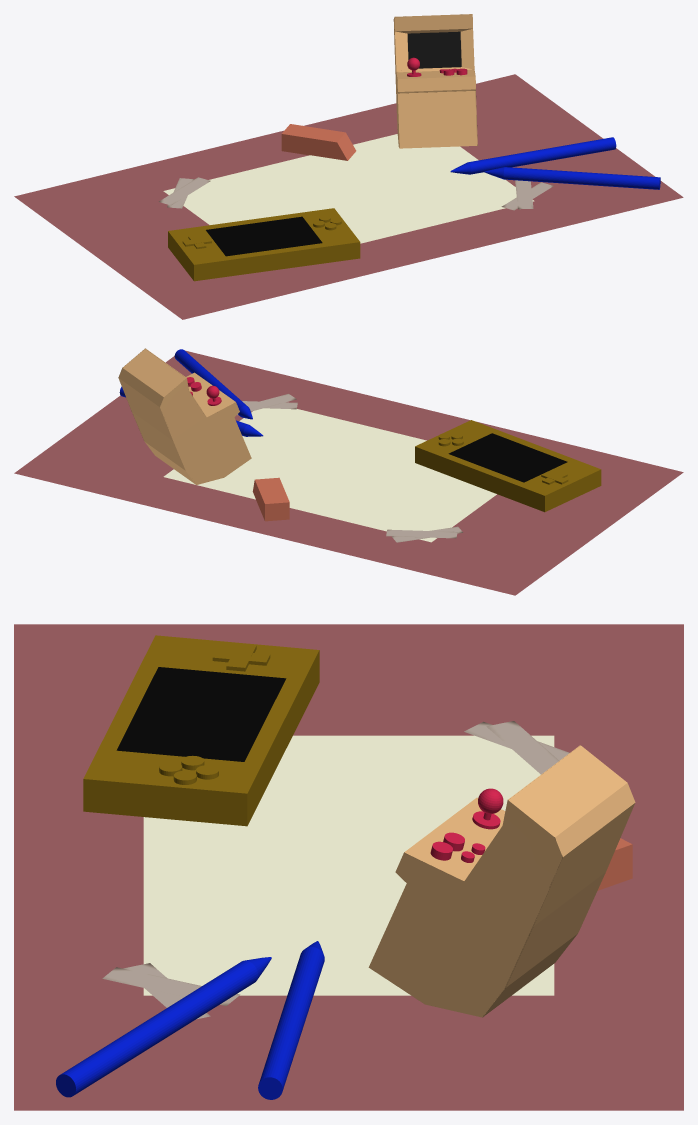
3 views of the same model, one above another, from view 1: azimuth 30°, elevation 25°; view 2: azimuth 150°, elevation 25°; view 3: azimuth 270°, elevation 25° (orthographic). The views are drawn at different scales.
Parts seen in each view (by area): view 1: Table, Paper, MiniArcadeMachine, HandheldGameConsole, Pencil_2.001, Pencil_2, Eraser, Scotch_2.001, Scotch_2.003; view 2: Table, Paper, MiniArcadeMachine, HandheldGameConsole, Eraser, Pencil_2.001, Scotch_2.001; view 3: Table, Paper, MiniArcadeMachine, HandheldGameConsole, Pencil_2.001, Pencil_2, Scotch_2.001, Scotch_2.003, Eraser.
Part boxes in pixels (x1,y1,x2,y2): Table: [14, 74, 683, 319]; Paper: [163, 134, 534, 243]; MiniArcadeMachine: [393, 14, 477, 148]; HandheldGameConsole: [168, 208, 360, 281]; Pencil_2.001: [484, 167, 660, 189]; Pencil_2: [450, 137, 616, 174]; Eraser: [281, 124, 356, 160]; Scotch_2.001: [159, 177, 210, 205]; Scotch_2.003: [515, 180, 533, 209]; Table: [14, 350, 683, 595]; Paper: [163, 408, 496, 542]; MiniArcadeMachine: [118, 348, 251, 484]; HandheldGameConsole: [415, 420, 601, 512]; Eraser: [252, 477, 289, 521]; Pencil_2.001: [174, 349, 252, 419]; Scotch_2.001: [386, 529, 457, 538]; Table: [14, 624, 683, 1110]; Paper: [143, 735, 554, 995]; MiniArcadeMachine: [368, 745, 635, 1017]; HandheldGameConsole: [83, 635, 319, 826]; Pencil_2.001: [56, 957, 271, 1097]; Pencil_2: [258, 941, 324, 1099]; Scotch_2.001: [486, 721, 559, 774]; Scotch_2.003: [102, 967, 240, 1005]; Eraser: [597, 838, 632, 890].
Size of the model in its own units: 561 by 122 by 327.
